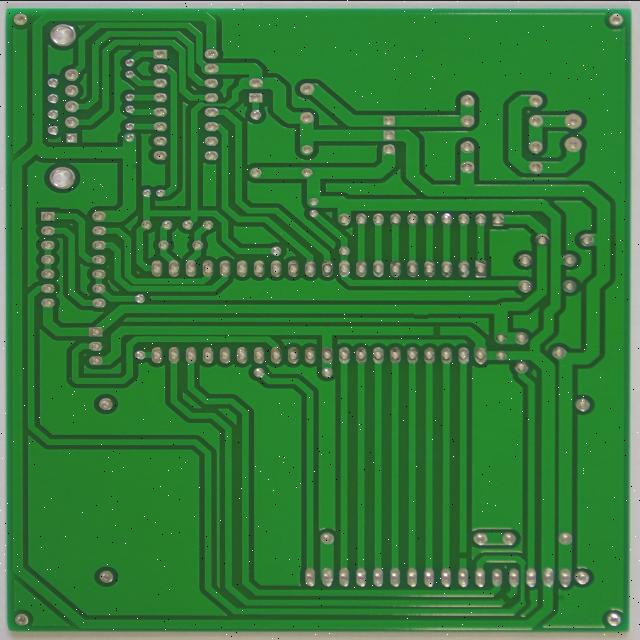open_circuit: (440, 543, 460, 558), (488, 587, 504, 602), (414, 306, 429, 321)
